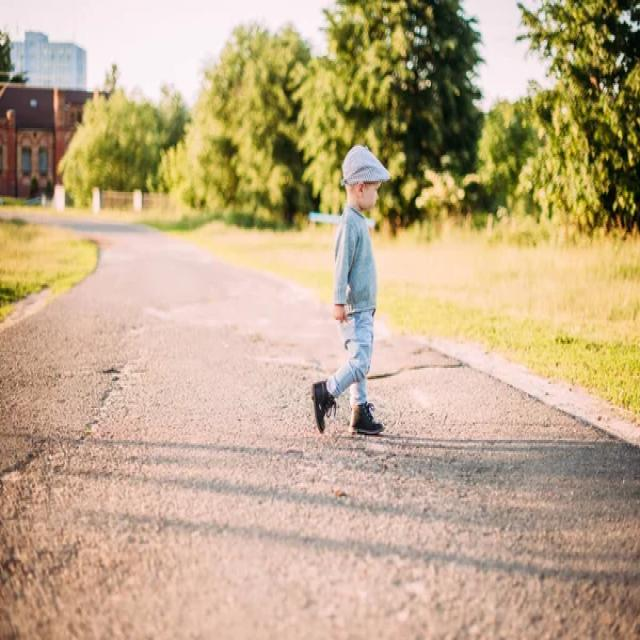Person: (313, 142, 390, 437)
